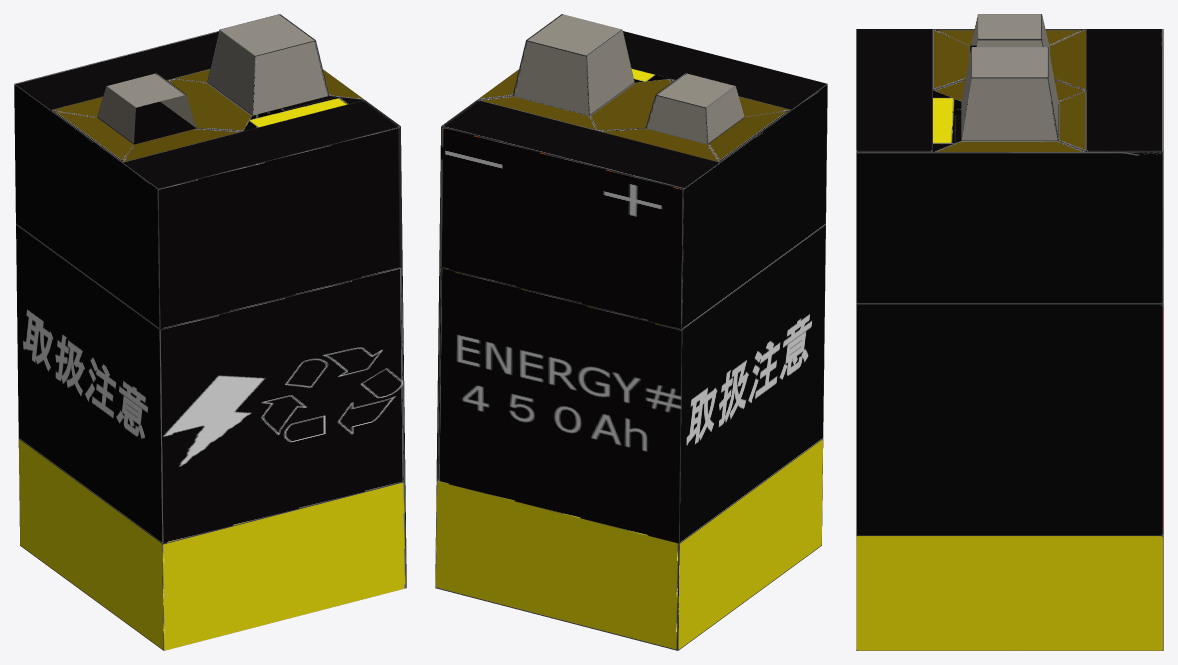
The model's file is Battery_during.fbx.
3 views of the same model, side by side, from view 1: azimuth 30°, elevation 25°; view 2: azimuth 150°, elevation 25°; view 3: azimuth 270°, elevation 25° (orthographic). The views are drawn at different scales.
Visible parts, largest first — view 1: Cube; view 2: Cube; view 3: Cube.
Boxes of the visible parts, x1=… form: Cube: x1=14, y1=14, x2=406, y2=650; Cube: x1=435, y1=14, x2=827, y2=650; Cube: x1=856, y1=14, x2=1163, y2=650.
Bounding box in the file's own units: 200 × 400 × 200.
